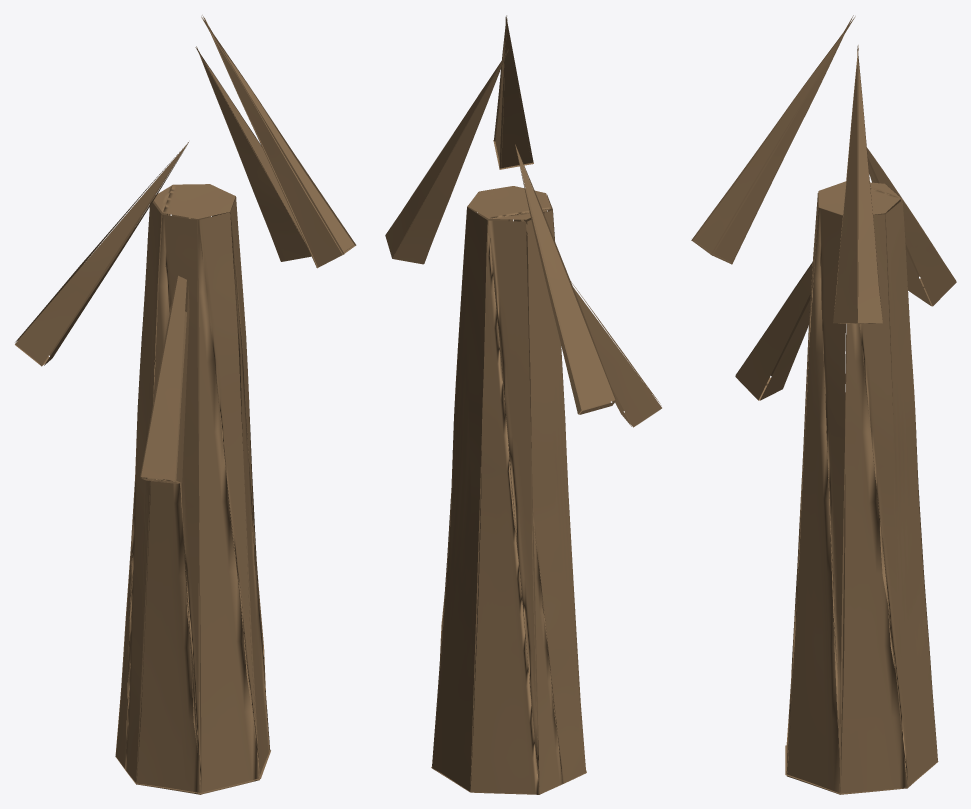
Rendered from dead_tree.glb.
3 renders of one model, left to right at view 1: azimuth 30°, elevation 25°; view 2: azimuth 150°, elevation 25°; view 3: azimuth 270°, elevation 25°, orthographic.
Visible parts, largest first — view 1: DeadTrunk; view 2: DeadTrunk; view 3: DeadTrunk.
Boxes of the visible parts, x1,y1,x2,y2 form: DeadTrunk: [15, 15, 356, 794]; DeadTrunk: [385, 15, 661, 794]; DeadTrunk: [691, 15, 956, 794].
Size of the model in its own units: 1 by 2.67 by 0.8558.
